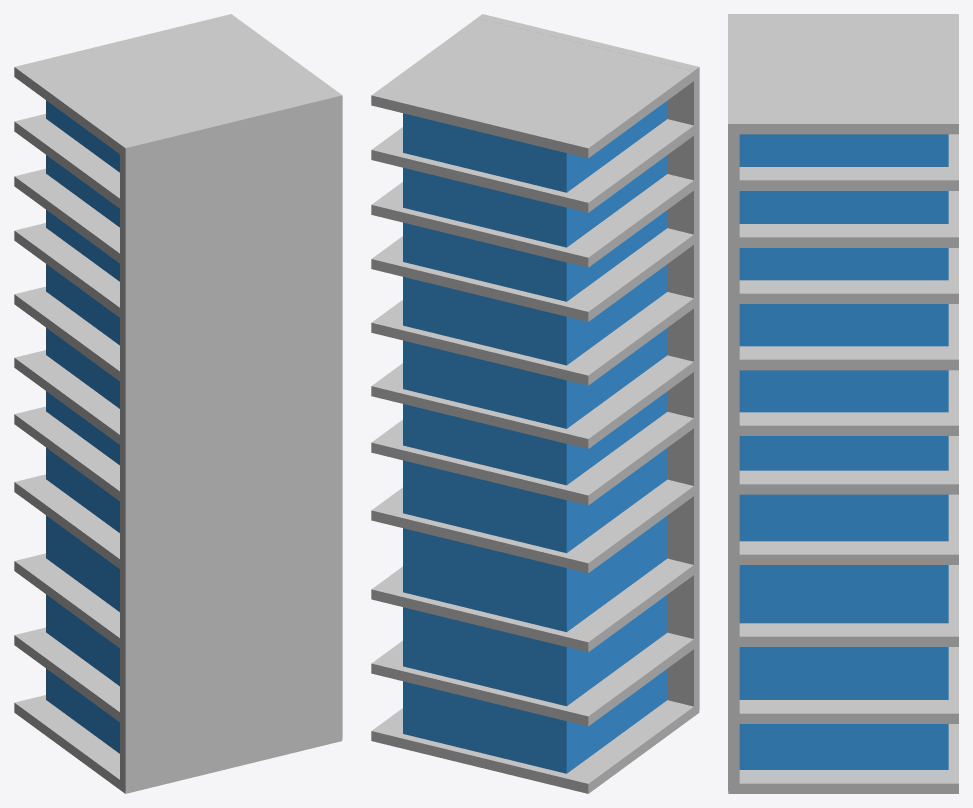
Rendered from building.glb.
3 renders of one model, left to right at view 1: azimuth 30°, elevation 25°; view 2: azimuth 150°, elevation 25°; view 3: azimuth 270°, elevation 25°, orthographic. The views are drawn at different scales.
Parts seen in each view (by area): view 1: Cube.004, Cube.002, Cube.003, Cube.001, Cube, Cube.014, Cube.007, Cube.010, Cube.008, Cube.009, Cube.005, Cube.012 (+3 smaller); view 2: Cube, Cube.001, Cube.011, Cube.005, Cube.009, Cube.012, Cube.007, Cube.008, Cube.014, Cube.010, Cube.006, Cube.013 (+3 smaller); view 3: Cube, Cube.001, Cube.008, Cube.012, Cube.013, Cube.010, Cube.014, Cube.009, Cube.011, Cube.005, Cube.006, Cube.007 (+3 smaller).
Boxes of the visible parts, box(x1,y1,x2,y2) form: Cube.004: box(120, 476, 342, 791); Cube.002: box(120, 91, 342, 349); Cube.003: box(120, 296, 342, 549); Cube.001: box(14, 14, 336, 157); Cube: box(46, 100, 119, 753); Cube.014: box(14, 695, 342, 793); Cube.007: box(14, 223, 124, 320); Cube.010: box(14, 406, 124, 502); Cube.008: box(14, 286, 123, 381); Cube.009: box(14, 350, 123, 446); Cube.005: box(14, 114, 124, 208); Cube.012: box(14, 553, 125, 651); Cube: box(403, 101, 667, 773); Cube.001: box(371, 18, 699, 158); Cube.011: box(371, 479, 699, 573); Cube.005: box(371, 119, 699, 212); Cube.009: box(371, 355, 699, 448); Cube.012: box(371, 558, 699, 652); Cube.007: box(371, 228, 699, 321); Cube.008: box(371, 292, 699, 385); Cube.014: box(371, 700, 699, 793); Cube.010: box(371, 412, 699, 505); Cube.006: box(371, 174, 699, 267); Cube.013: box(371, 632, 699, 726); Cube: box(739, 134, 948, 769); Cube.001: box(728, 14, 958, 134); Cube.008: box(728, 304, 958, 370); Cube.012: box(728, 565, 958, 646); Cube.013: box(728, 647, 958, 723); Cube.010: box(728, 436, 958, 494); Cube.014: box(728, 724, 958, 793); Cube.009: box(728, 370, 958, 435); Cube.011: box(728, 494, 958, 564); Cube.005: box(728, 134, 958, 190); Cube.006: box(735, 191, 958, 247); Cube.007: box(739, 248, 958, 303).
Size of the model in its own units: 45.12 by 128 by 40.05.
